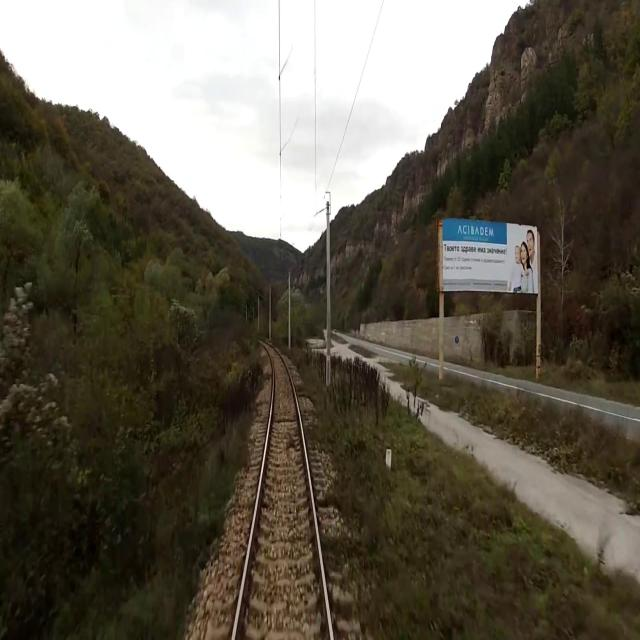rail-track: (236, 346, 328, 639)
